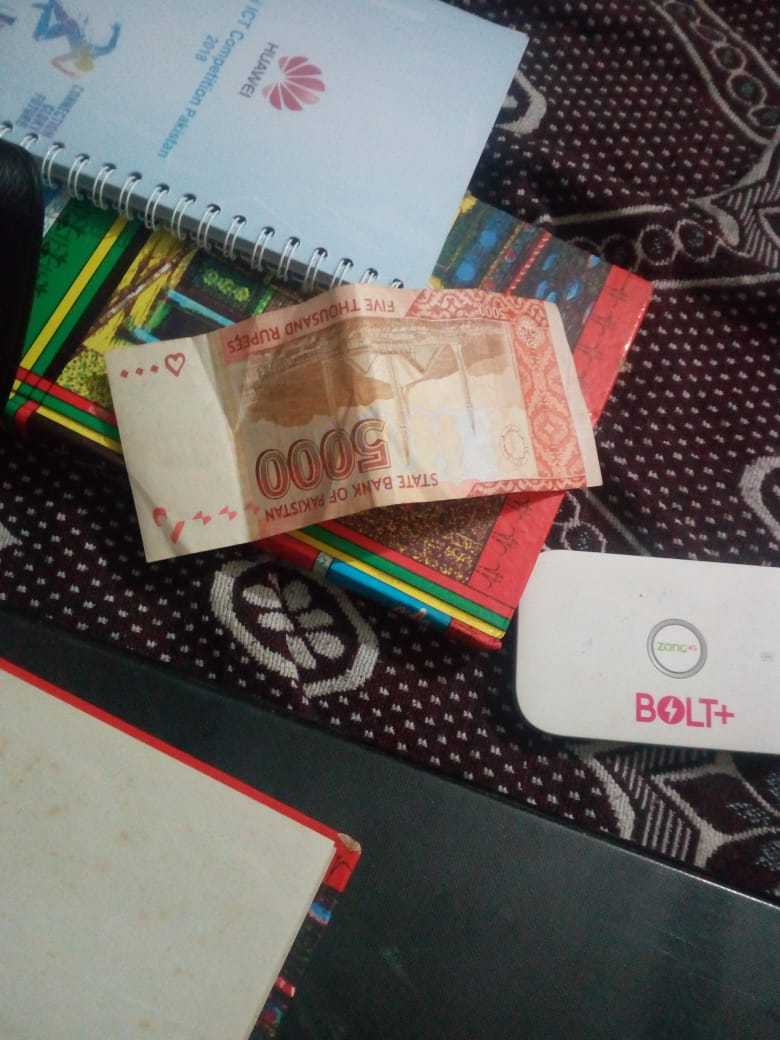5000 rupee: (87, 274, 596, 527)
